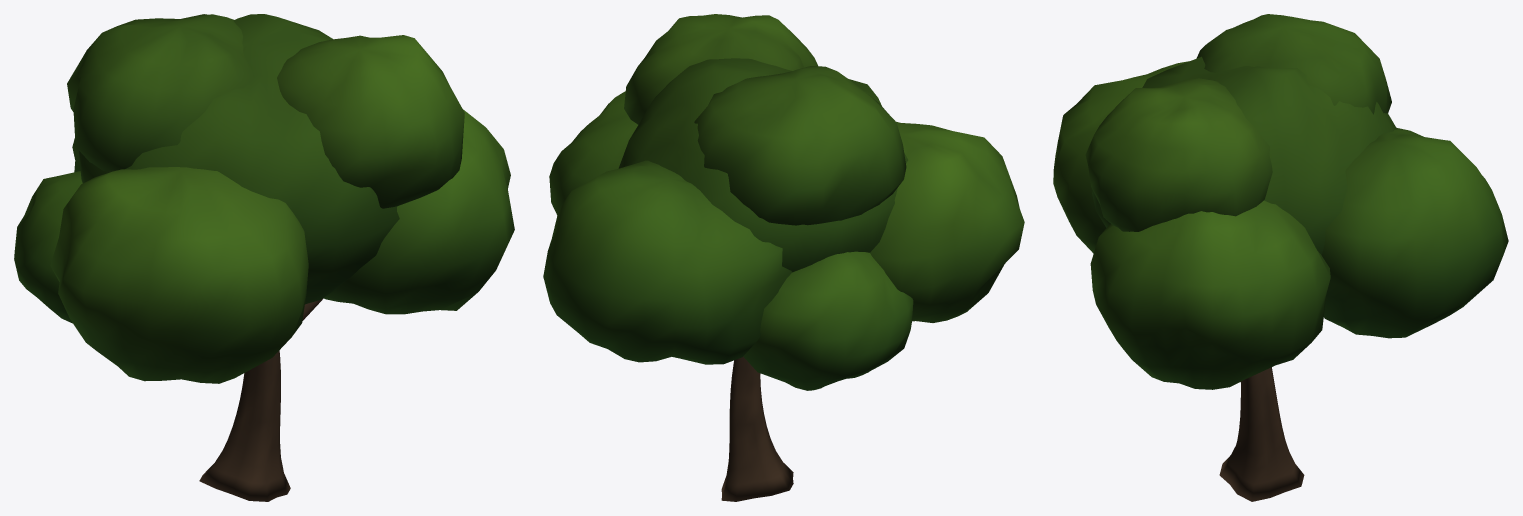
The model's file is oak.glb.
3 views of the same model, side by side, from view 1: azimuth 30°, elevation 25°; view 2: azimuth 150°, elevation 25°; view 3: azimuth 270°, elevation 25° (orthographic). The views are drawn at different scales.
Visible parts, largest first — view 1: oak; view 2: oak; view 3: oak.
Part boxes in pixels (x1=…): oak: x1=14, y1=14, x2=514, y2=501; oak: x1=543, y1=14, x2=1024, y2=501; oak: x1=1053, y1=14, x2=1508, y2=501.
Size of the model in its own units: 13.88 by 13.6 by 12.96.
